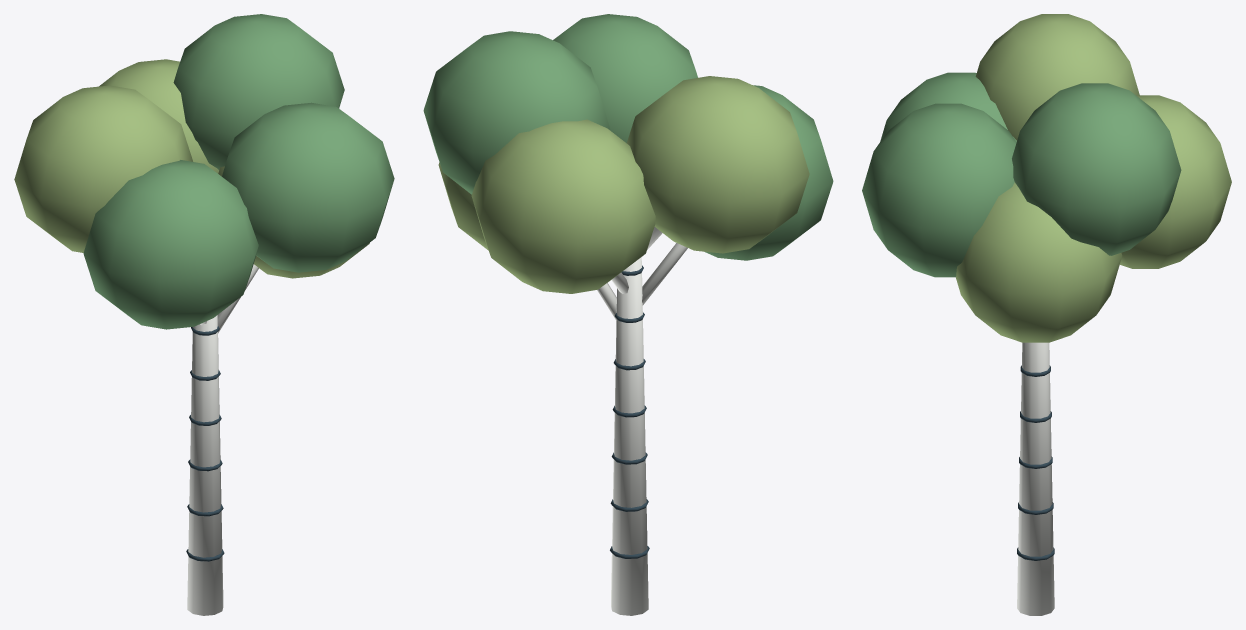
The model's file is tree-birch.glb.
The picture shows the model from 3 angles, left to right: view 1: azimuth 30°, elevation 25°; view 2: azimuth 150°, elevation 25°; view 3: azimuth 270°, elevation 25°; orthographic projection. The views are drawn at different scales.
Visible parts, largest first — view 1: tyaga-tree-birch-surface; view 2: tyaga-tree-birch-surface; view 3: tyaga-tree-birch-surface.
Boxes of the visible parts, box(x1,y1,x2,y2) form: tyaga-tree-birch-surface: box(14, 14, 394, 615); tyaga-tree-birch-surface: box(423, 14, 833, 615); tyaga-tree-birch-surface: box(862, 14, 1231, 615).
Bounding box in the file's own units: 2.53 × 3.9 × 2.35.
